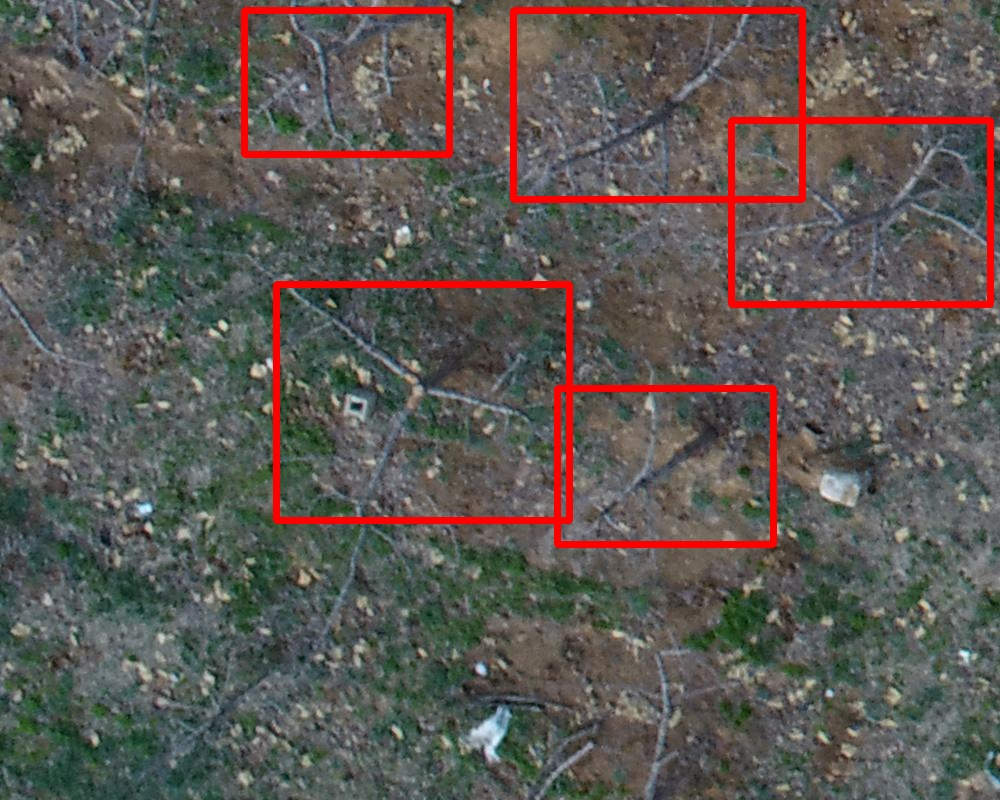apple: (276, 284, 569, 520), (513, 10, 802, 199), (731, 120, 990, 304), (557, 388, 773, 544), (244, 10, 449, 154)
